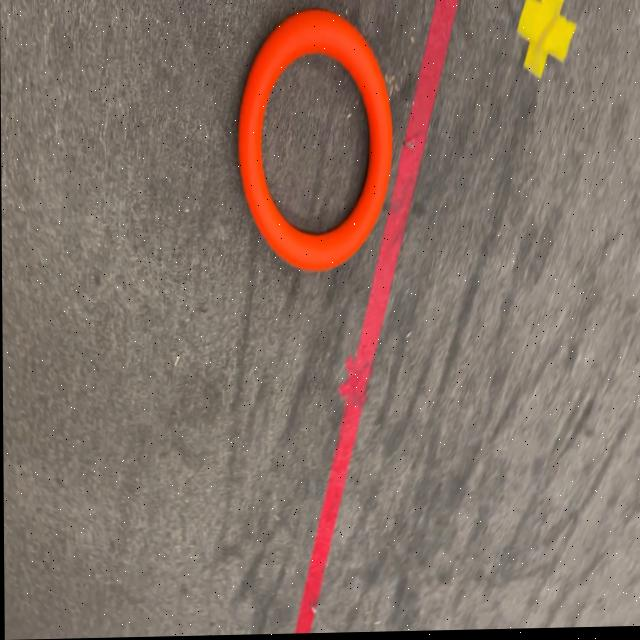note: (237, 10, 391, 274)
